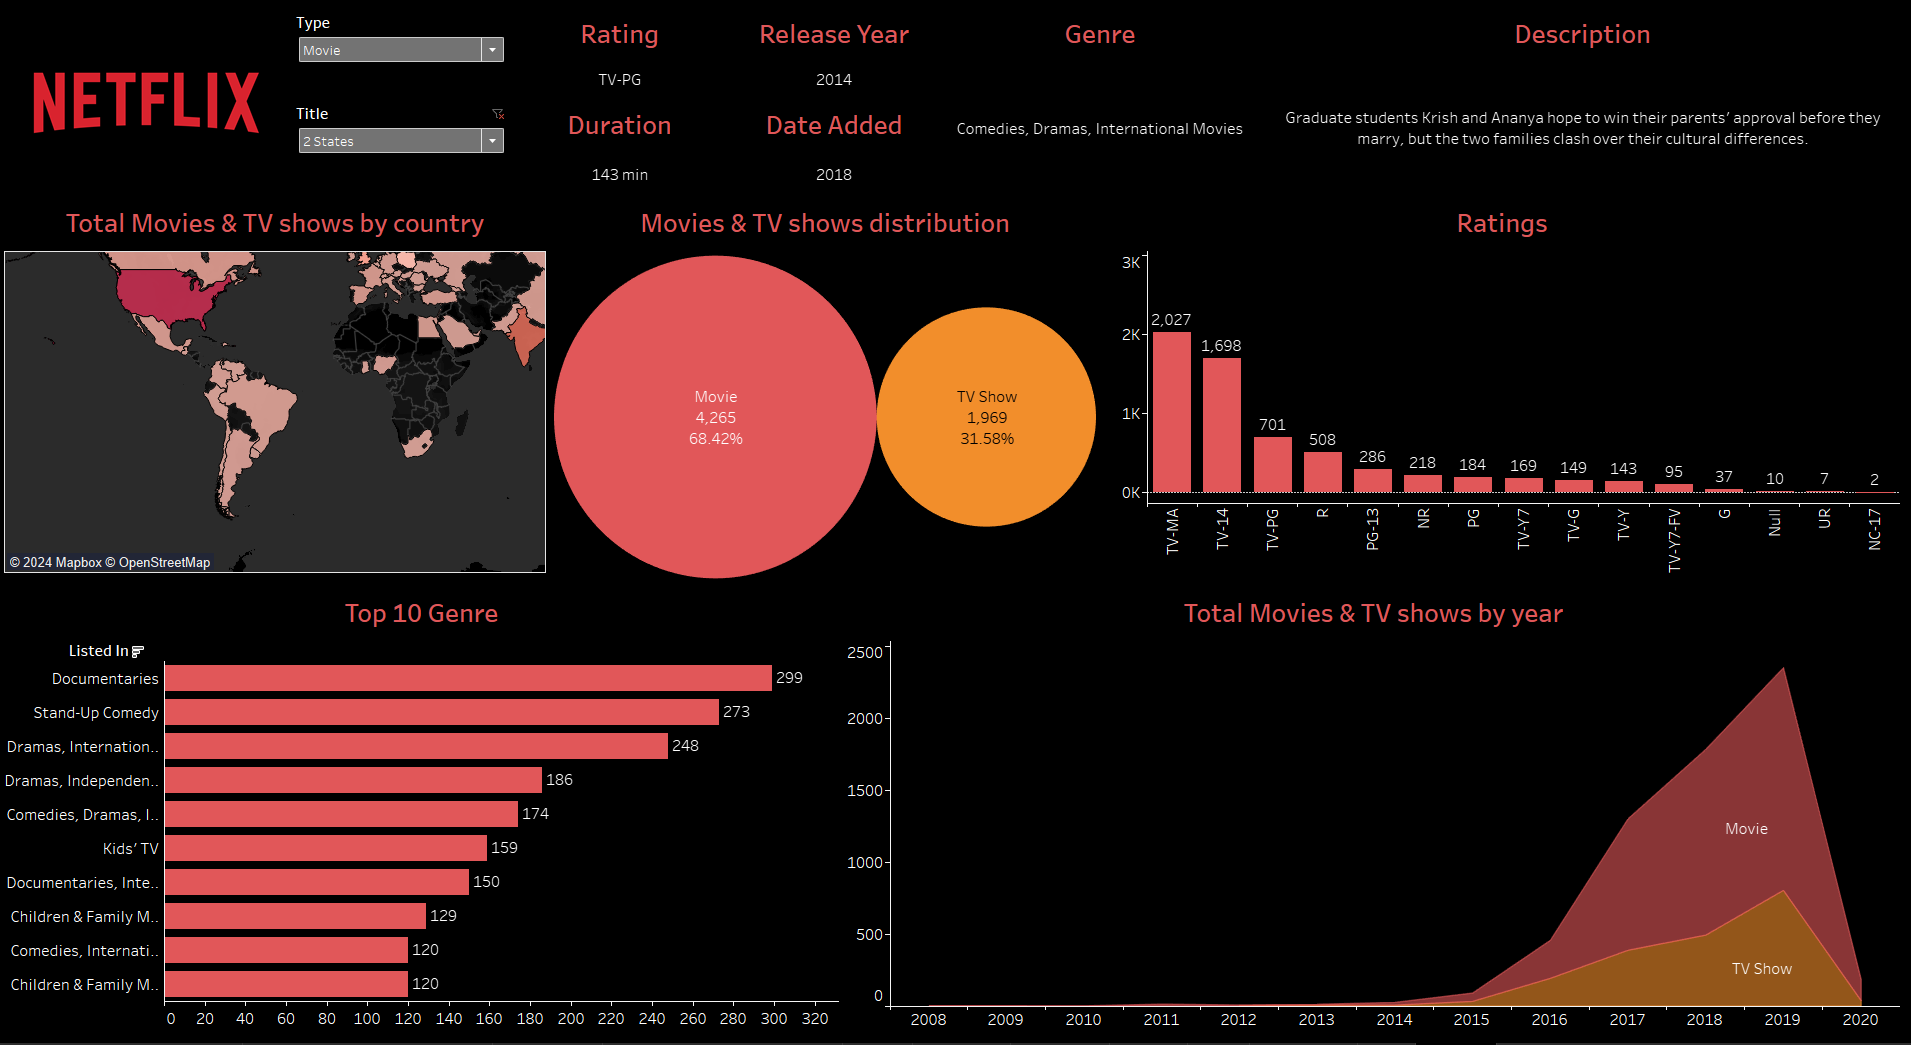

The dashboard page shown, as its layout file describes it:
{"tool":"tableau","page":{"name":"Netflix","canvas":[1700,1000],"ordinal":0},"visuals":[{"type":"image","param":"Image/Netflix_Logo_PMS.png","box":[8,8,258,167]},{"type":"filter","title":"Description","param":"[federated.00gmlkt0dxms681da3llx0xj0rtx].[none:type:nk]","box":[266,8,193.5,87]},{"type":"worksheet","title":"Rating","mark":"Automatic","box":[459.5,8,193.5,87]},{"type":"worksheet","title":"Release Year","mark":"Automatic","box":[653,8,185.5,87]},{"type":"worksheet","title":"Genre","mark":"Automatic","box":[838.5,8,284.5,167]},{"type":"worksheet","title":"Description","mark":"Automatic","box":[1123,8,569,167]},{"type":"filter","title":"Description","param":"[federated.00gmlkt0dxms681da3llx0xj0rtx].[none:title:nk]","box":[266,95,193.5,80]},{"type":"worksheet","title":"Duration","mark":"Automatic","box":[459.5,95,193.5,80]},{"type":"worksheet","title":"Date Added","mark":"Automatic","box":[653,95,185.5,80]},{"type":"worksheet","title":"Total Movies & TV shows by country","mark":"Multipolygon","box":[8,175,486.7,357]},{"type":"worksheet","title":"Movies & TV shows distribution","mark":"Circle","box":[494.7,175,486.7,357]},{"type":"worksheet","title":"Ratings","mark":"Automatic","rows":["show_id"],"cols":["rating"],"box":[981.3,175,710.7,357]},{"type":"worksheet","title":"Top 10 Genre","mark":"Automatic","rows":["listed_in"],"cols":["show_id"],"box":[8,532,745.2,460]},{"type":"worksheet","title":"Total Movies & TV shows by year","mark":"Area","rows":["show_id"],"cols":["date_added"],"box":[753.2,532,938.8,460]}]}

Visuals, with their boxes on the page's 1700x1000 design canvas (x1, y1, x2, y2). These are canvas units, not pixel positions in the 1911x1045 screenshot, which may show the page scaled, cropped or inside an application window:
image: l=8, t=8, r=266, b=175
"Description" filter: l=266, t=8, r=460, b=95
"Rating" worksheet: l=460, t=8, r=653, b=95
"Release Year" worksheet: l=653, t=8, r=838, b=95
"Genre" worksheet: l=838, t=8, r=1123, b=175
"Description" worksheet: l=1123, t=8, r=1692, b=175
"Description" filter: l=266, t=95, r=460, b=175
"Duration" worksheet: l=460, t=95, r=653, b=175
"Date Added" worksheet: l=653, t=95, r=838, b=175
"Total Movies & TV shows by country" worksheet (Multipolygon marks): l=8, t=175, r=495, b=532
"Movies & TV shows distribution" worksheet (Circle marks): l=495, t=175, r=981, b=532
"Ratings" worksheet: l=981, t=175, r=1692, b=532
"Top 10 Genre" worksheet: l=8, t=532, r=753, b=992
"Total Movies & TV shows by year" worksheet (Area marks): l=753, t=532, r=1692, b=992
